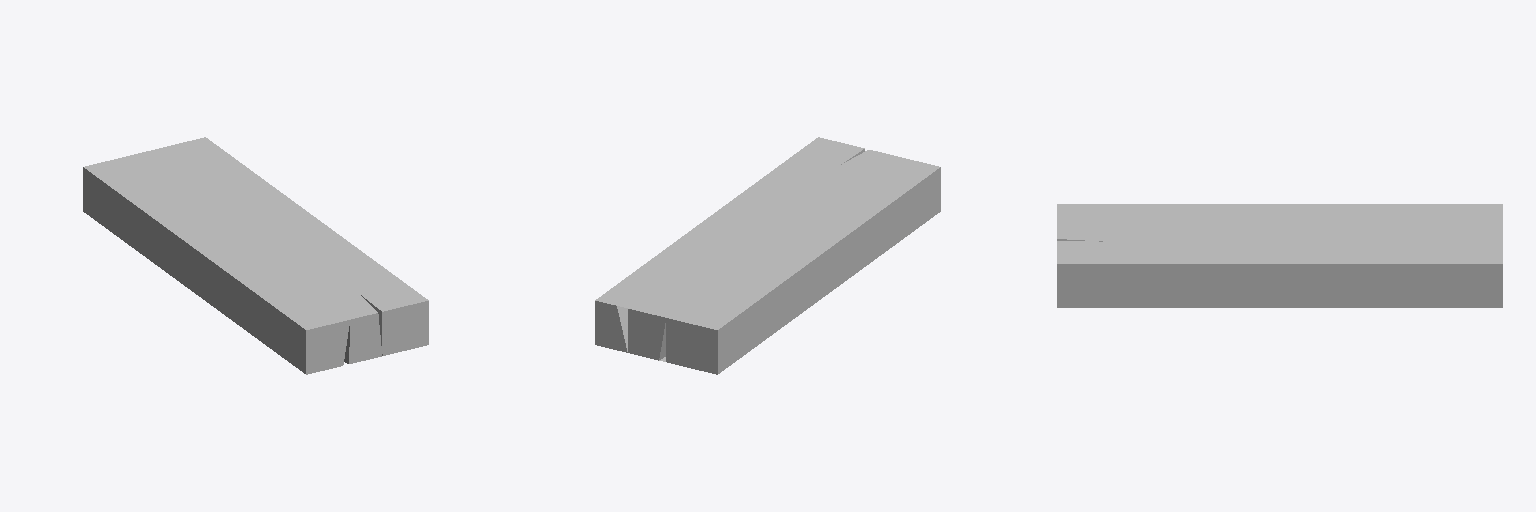
File: Planks.obj
3 views of the same model, side by side, from view 1: azimuth 30°, elevation 25°; view 2: azimuth 150°, elevation 25°; view 3: azimuth 270°, elevation 25° (orthographic).
Parts seen in each view (by area): view 1: Cube; view 2: Cube; view 3: Cube.
Part boxes in pixels (x1,y1,x2,y2): Cube: (83, 137, 428, 374); Cube: (595, 137, 940, 374); Cube: (1057, 204, 1502, 307).
Bounding box in the file's own units: 2 × 0.6942 × 6.31.